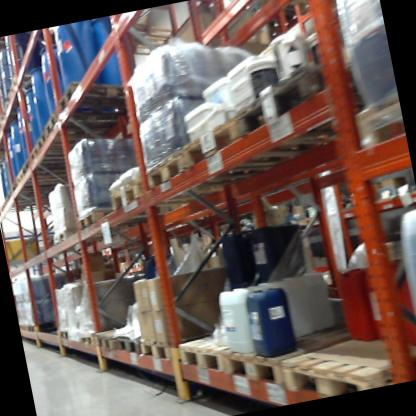pallet: (230, 54, 369, 173), (221, 312, 387, 402), (142, 132, 283, 223), (179, 104, 321, 192), (265, 325, 416, 404), (179, 308, 313, 382), (101, 164, 207, 228), (338, 75, 409, 162), (54, 71, 140, 132), (36, 97, 130, 149), (27, 135, 106, 184), (11, 158, 102, 200), (32, 125, 100, 171), (73, 202, 136, 241), (4, 61, 61, 104), (22, 151, 82, 190), (134, 329, 182, 368), (91, 326, 135, 355), (23, 312, 64, 338), (112, 330, 141, 364), (56, 321, 82, 343), (78, 326, 101, 348)
